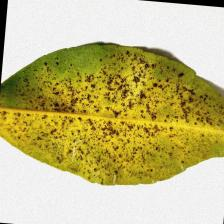canker: (41, 68, 166, 165)
